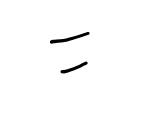eqv: (49, 31, 90, 75)
